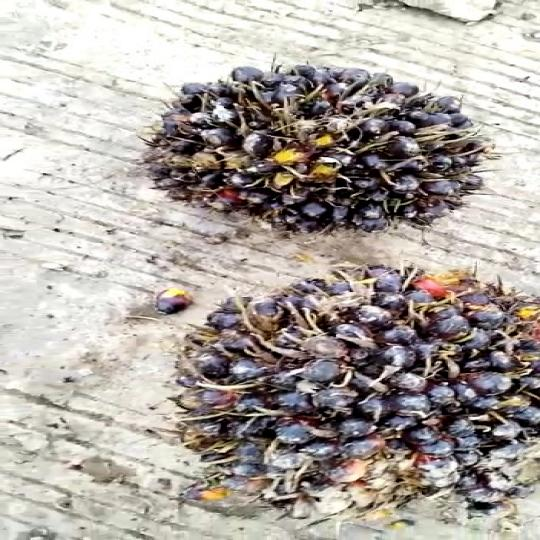mentah: (138, 261, 540, 530), (128, 58, 516, 224)
